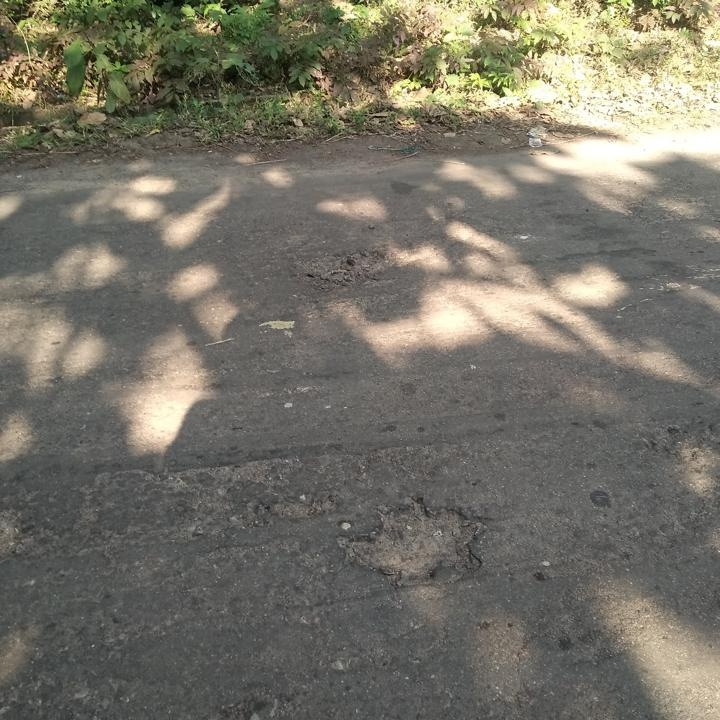pothole: (343, 493, 491, 588), (291, 241, 391, 290)
